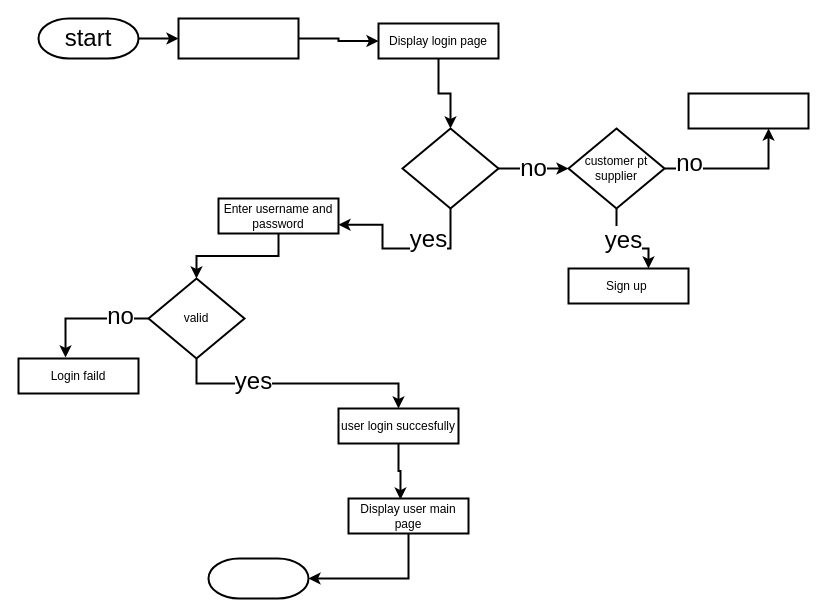
The diagram is 826 pixels wide and 616 high, and some of its shapes have lost their labels. The centre of each missing label's shape, as x and y in pixels:
end: [258,578]
Enter URL: [238,38]
Has account: [450,168]
Request admin for credential: [748,110]
